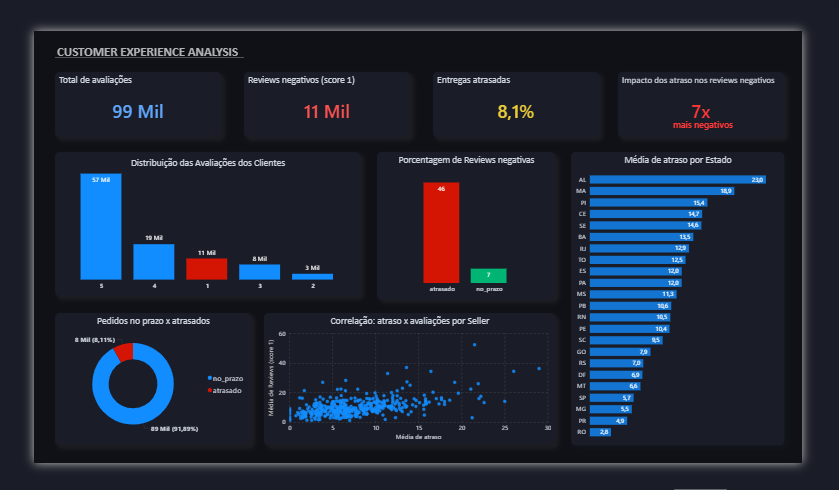

Layout of this report page (visuals, bound fields, positions):
{"tool":"powerbi","page":{"name":"Dashboard - Experiência do Cliente","canvas":[1920,1080],"ordinal":0},"visuals":[{"type":"card","title":"Total de avaliações","fields":{"Values":["Sum(vw_distribuicao_reviews.total_reviews)"]},"box":[52.5,102.5,415,162.5],"z":0},{"type":"card","title":"Impacto dos atraso nos reviews negativos","fields":{"Values":["vw_impacto_atraso_satisfacao.Relacao Formatada"]},"box":[1460,102.5,415,162.5],"z":0,"group":"g1"},{"type":"textbox","box":[1591.7,215,186.7,41.7],"z":1000,"group":"g1"},{"type":"clusteredColumnChart","title":"Distribuição das Avaliações dos Clientes","fields":{"Category":["vw_distribuicao_reviews.review_score"],"Y":["Sum(vw_distribuicao_reviews.total_reviews)"]},"box":[52.5,302.5,762.5,360],"z":1000},{"type":"donutChart","title":"Pedidos no prazo x atrasados","fields":{"Category":["vw_status_entrega.status_entrega"],"Y":["Sum(vw_status_entrega.total_pedidos)"]},"box":[52.5,705,490,330],"z":2000},{"type":"scatterChart","title":"Correlação: atraso x avaliações por Seller","fields":{"X":["Avg(vw_performance_sellers.pct_atraso)"],"Y":["Avg(vw_performance_sellers.pct_review_1)"],"Category":["vw_performance_sellers.seller_id"]},"box":[575,705,727.5,330],"z":3000},{"type":"clusteredColumnChart","title":"Porcentagem de Reviews negativas ","fields":{"Category":["vw_impacto_atraso_satisfacao.status_entrega"],"Y":["Avg(vw_impacto_atraso_satisfacao.pct_review_1)"]},"box":[857.5,302.5,445,367.5],"z":4000},{"type":"clusteredBarChart","title":"Média de atraso por Estado","fields":{"Category":["vw_atraso_por_estado.customer_state"],"Y":["Avg(vw_atraso_por_estado.pct_atraso)"]},"box":[1342.5,302.5,532.5,732.5],"z":5000},{"type":"textbox","box":[52.5,27.5,490,55],"z":6000},{"type":"card","title":"Reviews negativos (score 1)","fields":{"Values":["Sum(vw_distribuicao_reviews.total_reviews)"]},"box":[525,102.5,415,162.5],"z":7000},{"type":"card","title":"Entregas atrasadas","fields":{"Values":["vw_status_entrega.% Pedidos Atrasados"]},"box":[997.5,102.5,415,162.5],"z":8000},{"type":"group","id":"g1","title":"Grupo 1","box":[1460,102.5,415,162.5],"z":9000},{"type":"shape","box":[52.5,0,472.5,132.5],"z":10000}]}

Visuals, with their boxes on the page's 1920x1080 design canvas (x1, y1, x2, y2). These are canvas units, not pixel positions in the 839x490 screenshot, which may show the page scaled, cropped or inside an application window:
"Total de avaliações" card: 52:102:468:265
"Impacto dos atraso nos reviews negativos" card: 1460:102:1875:265
textbox: 1592:215:1778:257
"Distribuição das Avaliações dos Clientes" clusteredColumnChart: 52:302:815:662
"Pedidos no prazo x atrasados" donutChart: 52:705:542:1035
"Correlação: atraso x avaliações por Seller" scatterChart: 575:705:1302:1035
"Porcentagem de Reviews negativas " clusteredColumnChart: 858:302:1302:670
"Média de atraso por Estado" clusteredBarChart: 1342:302:1875:1035
textbox: 52:28:542:82
"Reviews negativos (score 1)" card: 525:102:940:265
"Entregas atrasadas" card: 998:102:1412:265
"Grupo 1" group: 1460:102:1875:265
shape: 52:0:525:132
